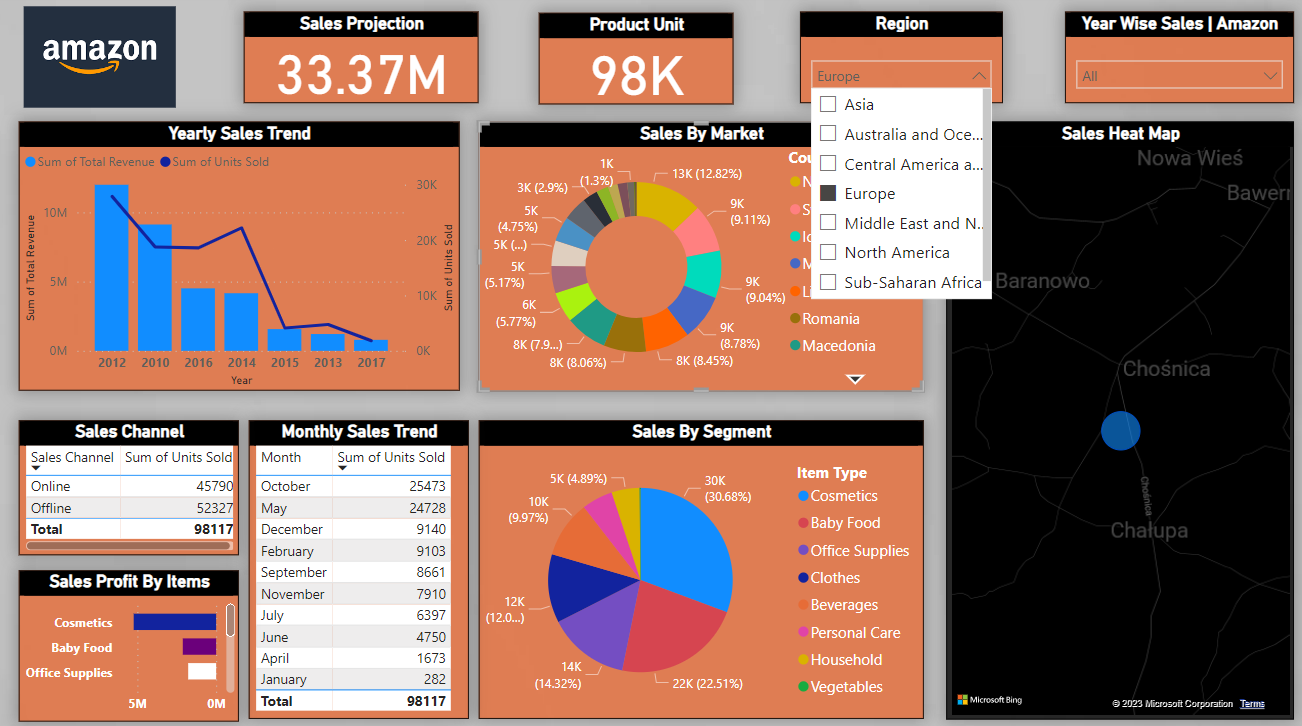

Layout of this report page (visuals, bound fields, positions):
{"tool":"powerbi","page":{"name":"Page 1","canvas":[1280,720],"ordinal":0},"visuals":[{"type":"slicer","title":"Year Wise Sales | Amazon ","fields":{"Values":["Amazon Sales data.Year"]},"box":[1041.5,17.1,223.7,89.2],"z":0},{"type":"card","title":"Sales Projection","fields":{"Values":["Sum(Amazon Sales data.Total Revenue)"]},"box":[238.4,17.1,229.8,89.2],"z":1000},{"type":"image","box":[18.3,0,158.9,123.5],"z":2000},{"type":"card","title":"Product Unit","fields":{"Values":["Sum(Amazon Sales data.Units Sold)"]},"box":[526.9,18.3,190.7,89.2],"z":3000},{"type":"slicer","title":"Region","fields":{"Values":["Amazon Sales data.Region"]},"box":[782.3,17.1,198,89.2],"z":4000},{"type":"pieChart","title":"Sales By Segment","fields":{"Category":["Amazon Sales data.Item Type"],"Y":["Sum(Amazon Sales data.Units Sold)"]},"box":[468.2,416.8,435.2,292.2],"z":5000},{"type":"donutChart","title":"Sales By Market","fields":{"Category":["Amazon Sales data.Country"],"Y":["Sum(Amazon Sales data.Units Sold)"]},"box":[468.2,124.7,435.2,264],"z":6000},{"type":"tableEx","title":"Monthly Sales Trend","fields":{"Values":["Amazon Sales data.Month","Sum(Amazon Sales data.Units Sold)"]},"box":[242.9,417.2,215.4,292.3],"z":7000},{"type":"stackedAreaChart","title":"Yearly Sales Trend","fields":{"Y":["Sum(Amazon Sales data.Units Sold)"],"Category":["Amazon Sales data.Year"]},"box":[17.8,124.9,430.9,263.5],"z":8000},{"type":"map","title":"Sales Heat Map","fields":{"Size":["Sum(Amazon Sales data.Units Sold)"],"Category":["Amazon Sales data.Region"]},"box":[924.9,124.9,340.3,584.6],"z":9000},{"type":"tableEx","title":"Sales Channel","fields":{"Values":["Amazon Sales data.Sales Channel","Sum(Amazon Sales data.Units Sold)"]},"box":[17.8,417.2,215.4,131.7],"z":10000},{"type":"clusteredBarChart","title":"Sales Profit By Items","fields":{"Category":["Amazon Sales data.Item Type"],"Y":["Sum(Amazon Sales data.Total Profit)"]},"box":[17.8,564,215.4,148.2],"z":10001}]}

Visuals, with their boxes in screenshot pixels (x1, y1, x2, y2), scaled from the page's 1280x720 canvas onto the 1302x726 screenshot:
"Year Wise Sales | Amazon " slicer: {"x1": 1059, "y1": 17, "x2": 1287, "y2": 107}
"Sales Projection" card: {"x1": 242, "y1": 17, "x2": 476, "y2": 107}
image: {"x1": 19, "y1": 0, "x2": 180, "y2": 125}
"Product Unit" card: {"x1": 536, "y1": 18, "x2": 730, "y2": 108}
"Region" slicer: {"x1": 796, "y1": 17, "x2": 997, "y2": 107}
"Sales By Segment" pieChart: {"x1": 476, "y1": 420, "x2": 919, "y2": 715}
"Sales By Market" donutChart: {"x1": 476, "y1": 126, "x2": 919, "y2": 392}
"Monthly Sales Trend" tableEx: {"x1": 247, "y1": 421, "x2": 466, "y2": 715}
"Yearly Sales Trend" stackedAreaChart: {"x1": 18, "y1": 126, "x2": 456, "y2": 392}
"Sales Heat Map" map: {"x1": 941, "y1": 126, "x2": 1287, "y2": 715}
"Sales Channel" tableEx: {"x1": 18, "y1": 421, "x2": 237, "y2": 553}
"Sales Profit By Items" clusteredBarChart: {"x1": 18, "y1": 569, "x2": 237, "y2": 718}
